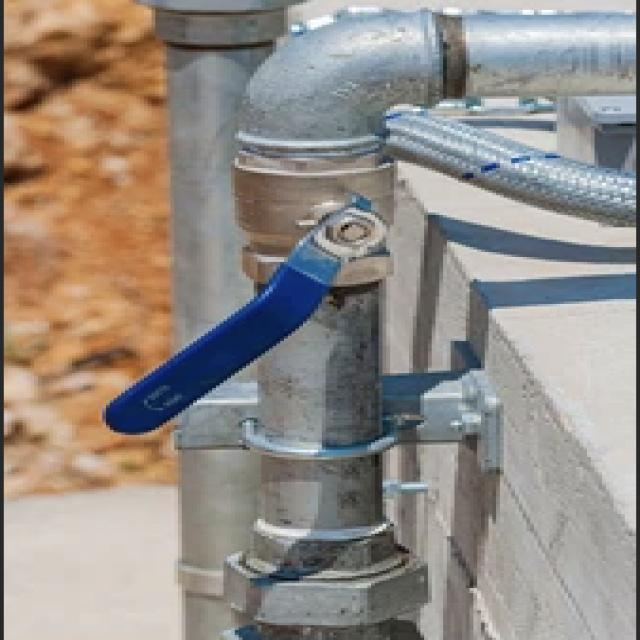Lever Handle Valve Threaded: (106, 150, 396, 431)
